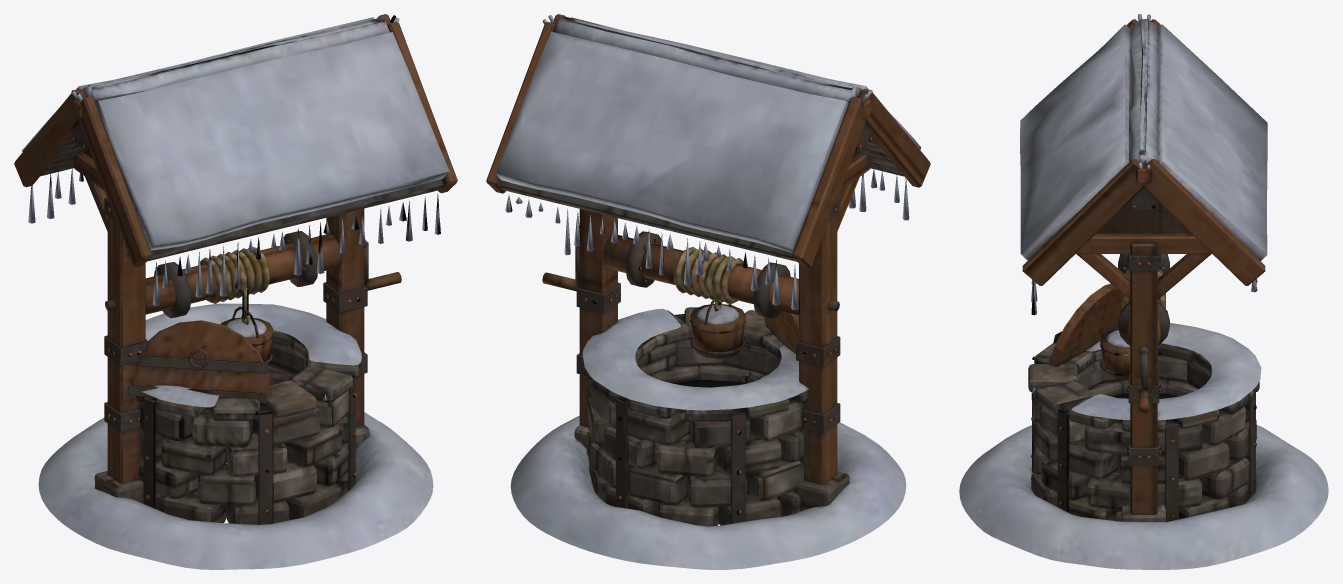
The model's file is well.glb.
3 views of the same model, side by side, from view 1: azimuth 30°, elevation 25°; view 2: azimuth 150°, elevation 25°; view 3: azimuth 270°, elevation 25° (orthographic). The views are drawn at different scales.
Visible parts, largest first — view 1: model; view 2: model; view 3: model.
Boxes of the visible parts, left/top/right/bottom form: model: left=14, top=14, right=457, bottom=569; model: left=486, top=14, right=930, bottom=569; model: left=959, top=14, right=1328, bottom=569.
Bounding box in the file's own units: 2.69 × 3.28 × 2.69.
Materials: 1 (1 with a texture image).
